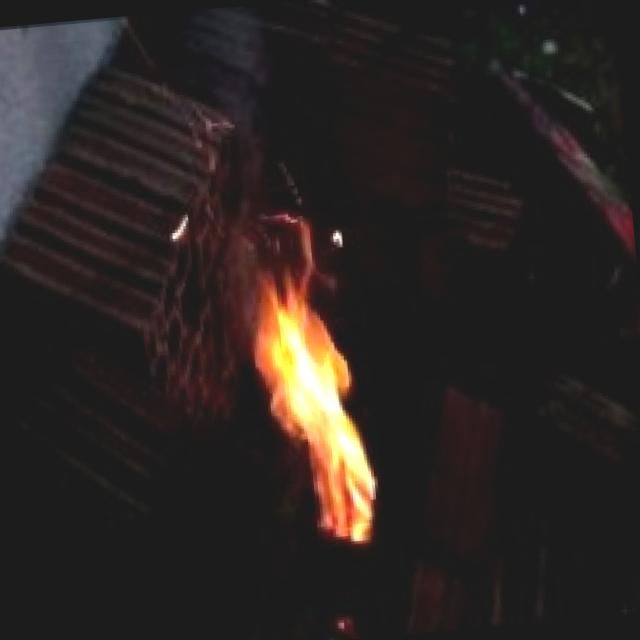fire: (206, 198, 417, 572)
